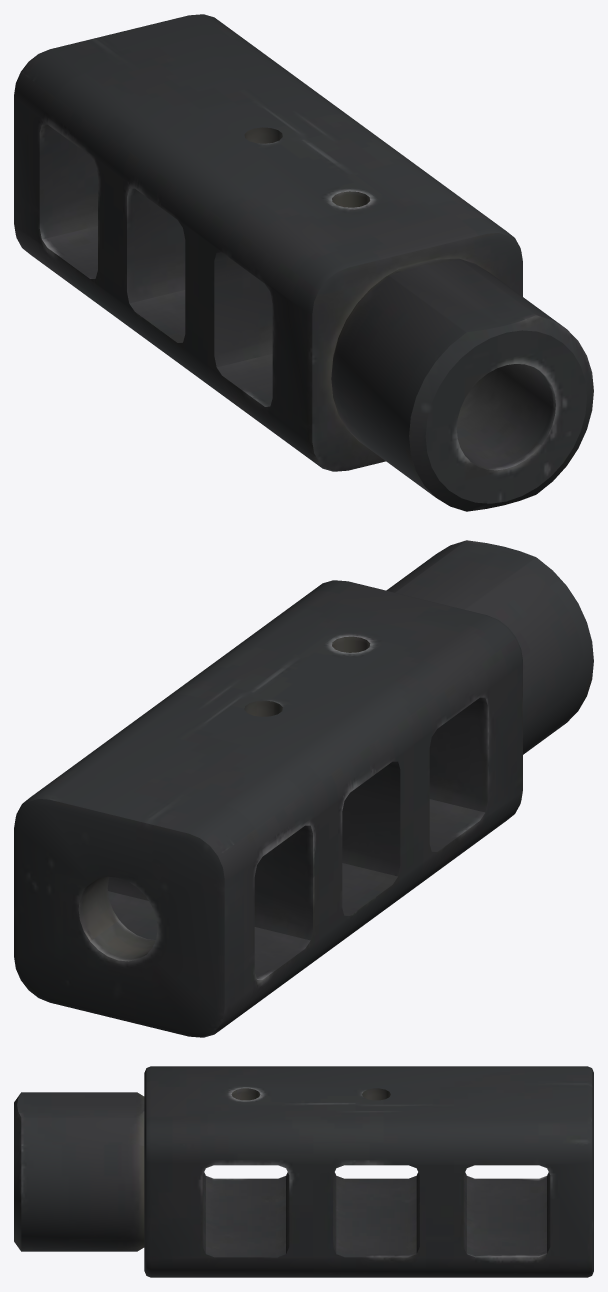
Rendered from freio_boca_308.glb.
The picture shows the model from 3 angles, top to bottom: view 1: azimuth 30°, elevation 25°; view 2: azimuth 150°, elevation 25°; view 3: azimuth 270°, elevation 25°; orthographic projection. The views are drawn at different scales.
Parts seen in each view (by area): view 1: freio_boca_308_boca; view 2: freio_boca_308_boca; view 3: freio_boca_308_boca.
Part boxes in pixels (x1,y1,x2,y2): freio_boca_308_boca: (14,14,593,511); freio_boca_308_boca: (14,540,593,1037); freio_boca_308_boca: (14,1066,593,1277).
Bounding box in the file's own units: 0.0256 × 0.0236 × 0.08.
Materials: 1 (1 with a texture image).
